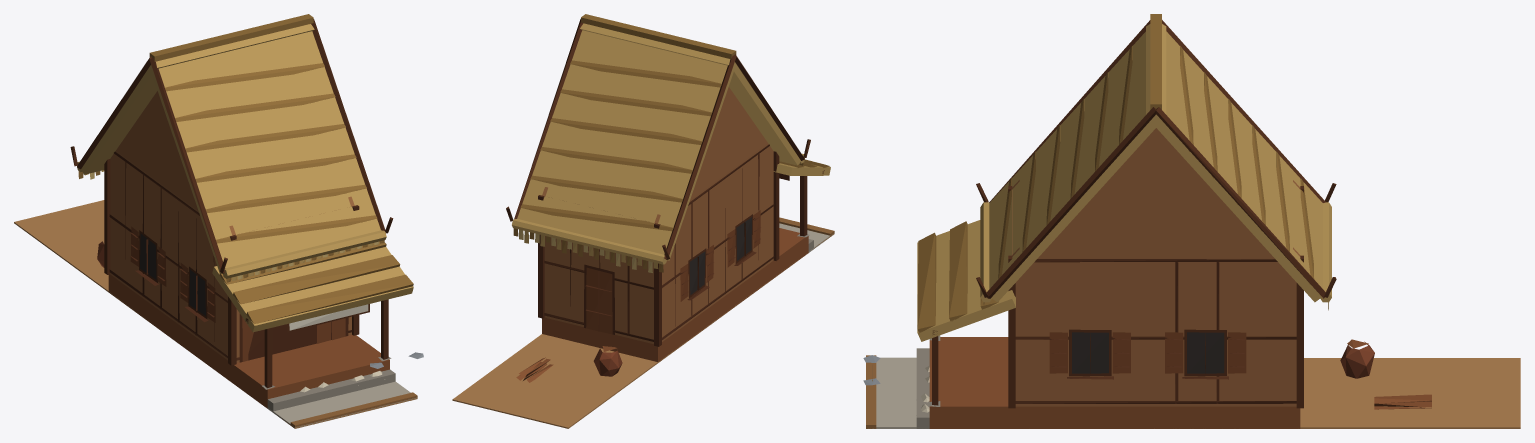
File: bay2_one.glb
3 renders of one model, left to right at view 1: azimuth 30°, elevation 25°; view 2: azimuth 150°, elevation 25°; view 3: azimuth 270°, elevation 25°, orthographic. The views are drawn at different scales.
Parts seen in each view (by area): view 1: body, windows; view 2: body, windows; view 3: body, windows.
Part boxes in pixels (left/top/right/bottom): body: left=14, top=14, right=423, bottom=428; windows: left=140, top=233, right=205, bottom=315; body: left=452, top=14, right=834, bottom=428; windows: left=689, top=217, right=752, bottom=294; body: left=863, top=14, right=1520, bottom=428; windows: left=1072, top=332, right=1224, bottom=373.
Bounding box in the file's own units: 5.54 × 8.98 × 15.96.
